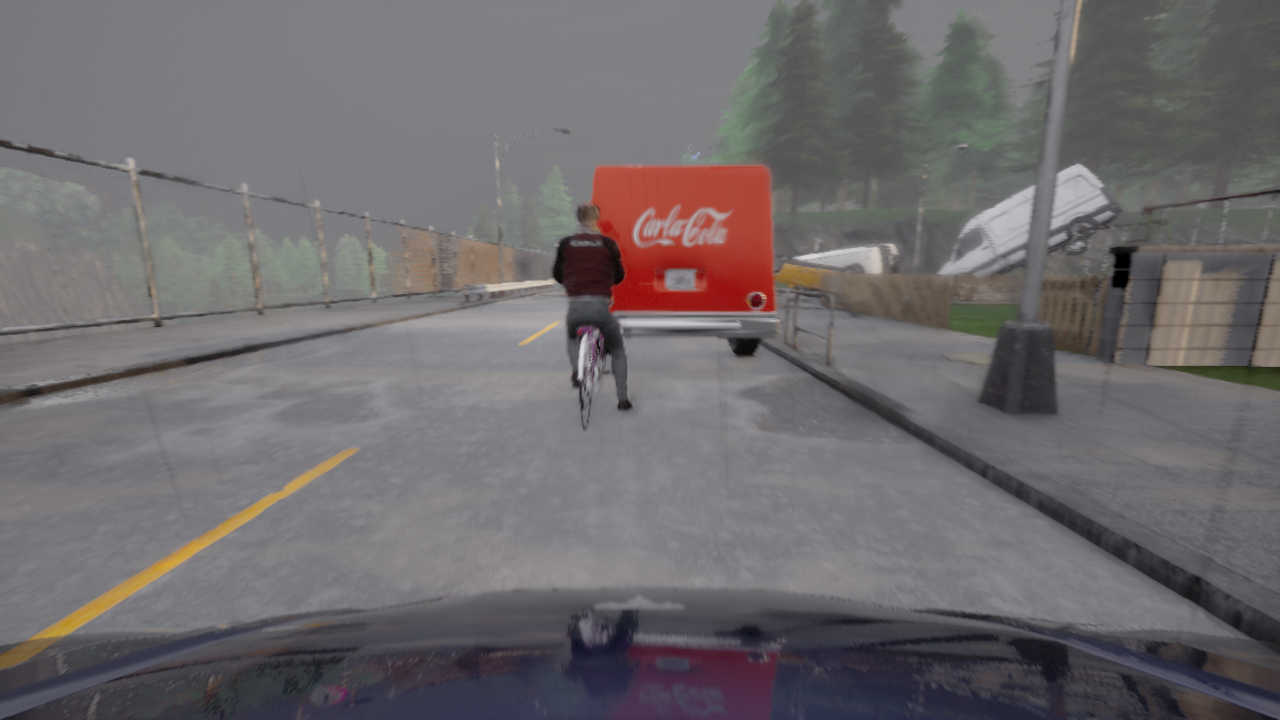cyclist: (0, 588, 1279, 719), (584, 165, 780, 354), (933, 164, 1122, 300), (789, 241, 897, 293), (774, 254, 869, 298), (572, 327, 612, 431), (980, 287, 1008, 297), (979, 293, 980, 294)
pedestrian: (890, 255, 899, 278)
